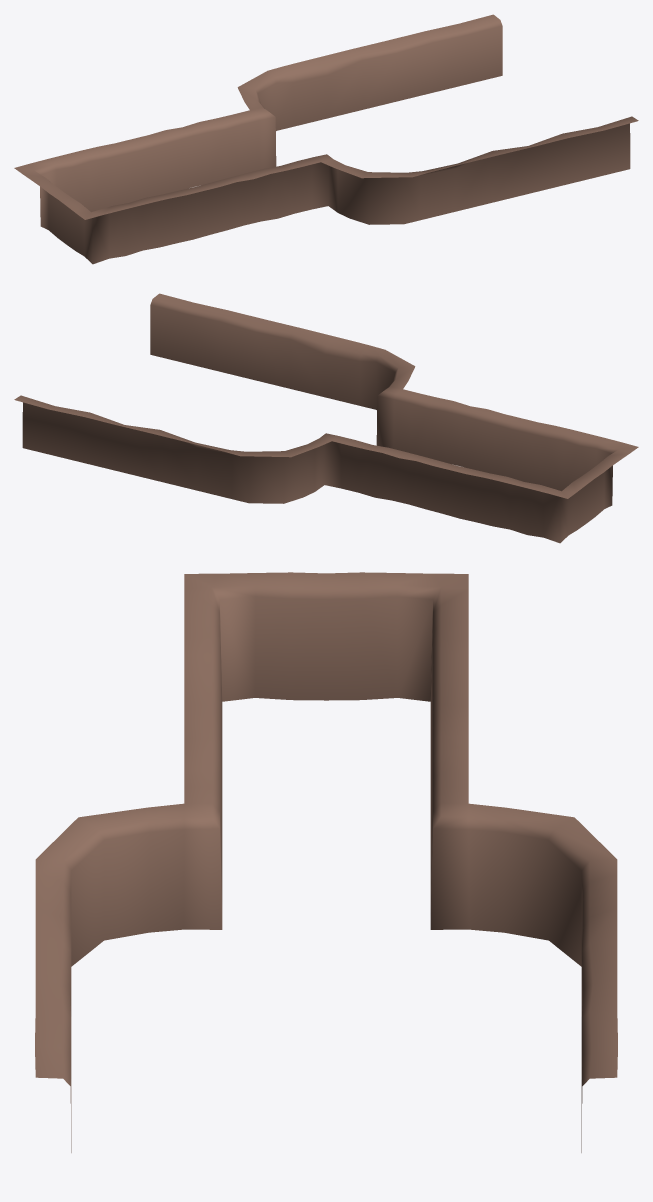
The model's file is WallBoarder.glb.
The picture shows the model from 3 angles, top to bottom: view 1: azimuth 30°, elevation 25°; view 2: azimuth 150°, elevation 25°; view 3: azimuth 270°, elevation 25°; orthographic projection. The views are drawn at different scales.
Visible parts, largest first — view 1: WallBoarder; view 2: WallBoarder; view 3: WallBoarder.
Boxes of the visible parts, box(x1,y1,x2,y2) form: WallBoarder: box(14, 14, 638, 264); WallBoarder: box(14, 293, 638, 543); WallBoarder: box(35, 572, 617, 1152).
Size of what is drawn, in the model's own units: 61.36 by 6.42 by 29.97.
